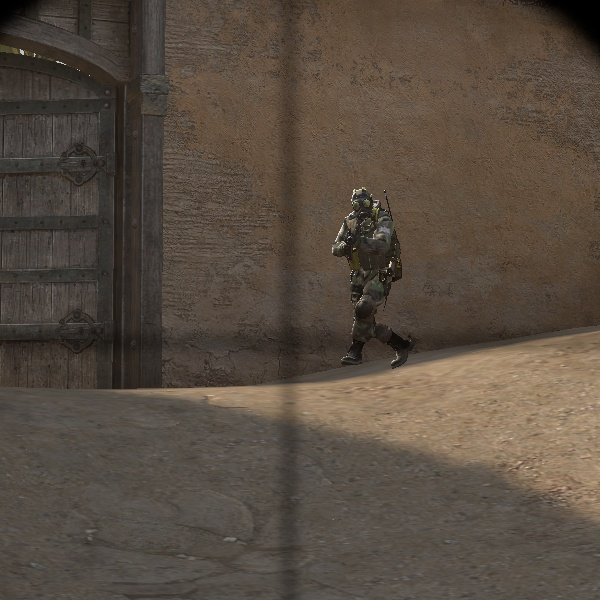ct_body: (328, 182, 407, 365)
ct_head: (342, 185, 379, 224)
